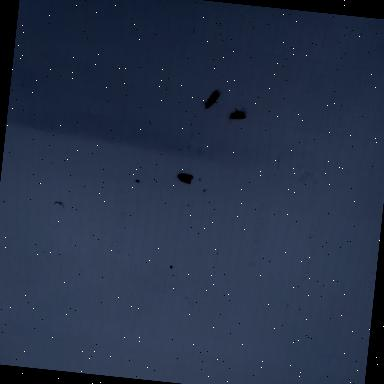pbw: (202, 89, 220, 112), (228, 108, 246, 126), (177, 170, 194, 185)
